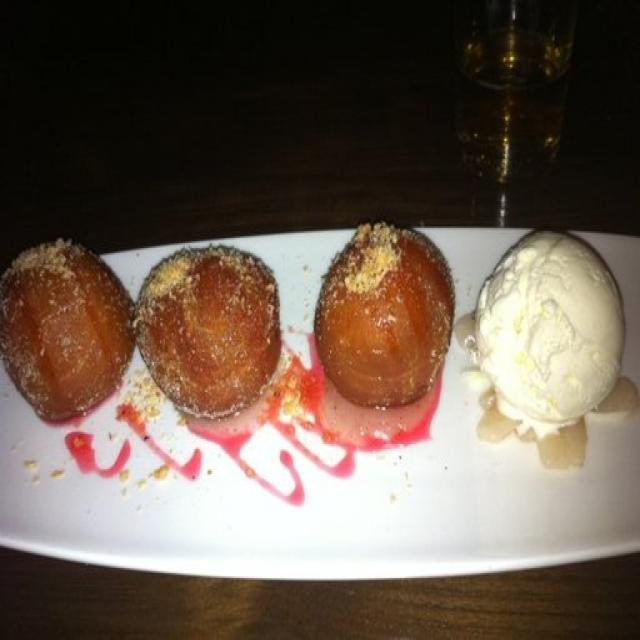Cookie: (475, 221, 640, 469)
Donuts: (4, 225, 459, 436)
